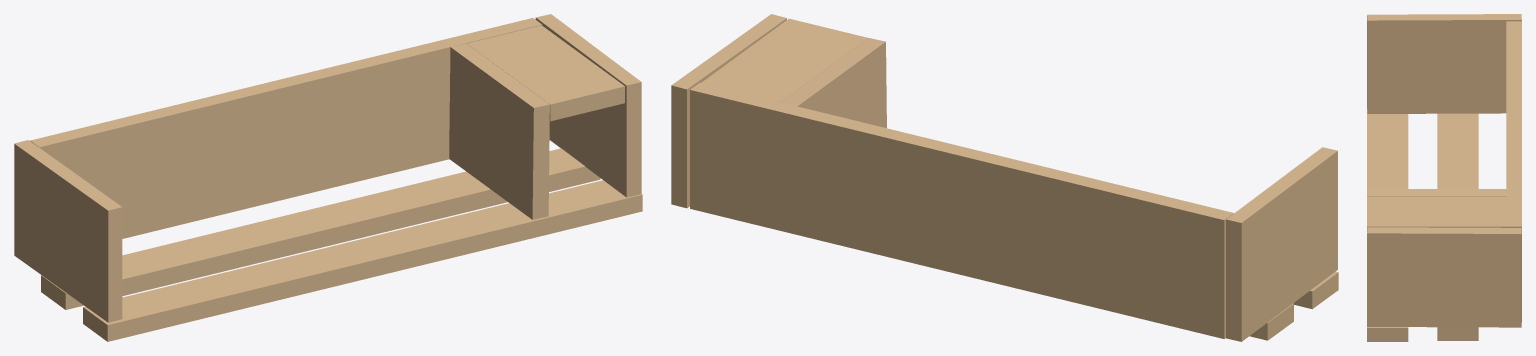
Rendered from tinker.obj.
3 views of the same model, side by side, from view 1: azimuth 30°, elevation 25°; view 2: azimuth 150°, elevation 25°; view 3: azimuth 270°, elevation 25° (orthographic). The views are drawn at different scales.
Parts seen in each view (by area): view 1: obj_0; view 2: obj_0; view 3: obj_0.
Boxes of the visible parts, x1,y1,x2,y2 form: obj_0: [14, 14, 642, 341]; obj_0: [671, 14, 1338, 341]; obj_0: [1367, 14, 1521, 341].
Size of the model in its own units: 502 by 117 by 150.
